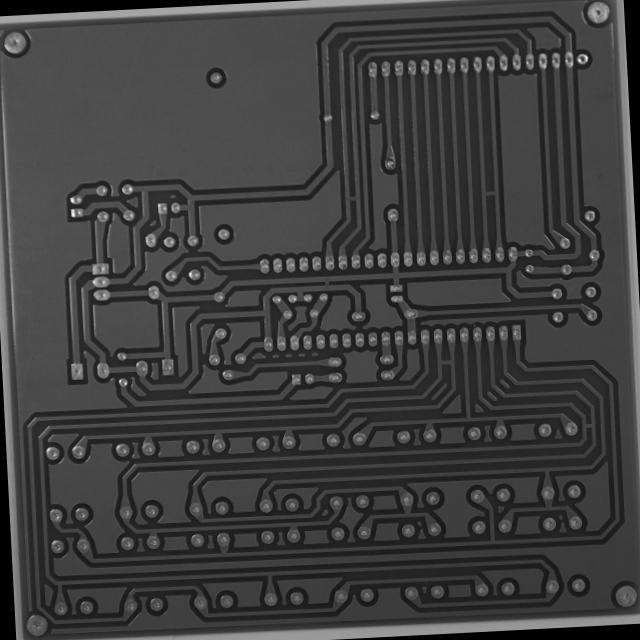short: (479, 184, 502, 203), (434, 356, 458, 370), (342, 190, 362, 206), (318, 274, 335, 292), (580, 418, 597, 432)
